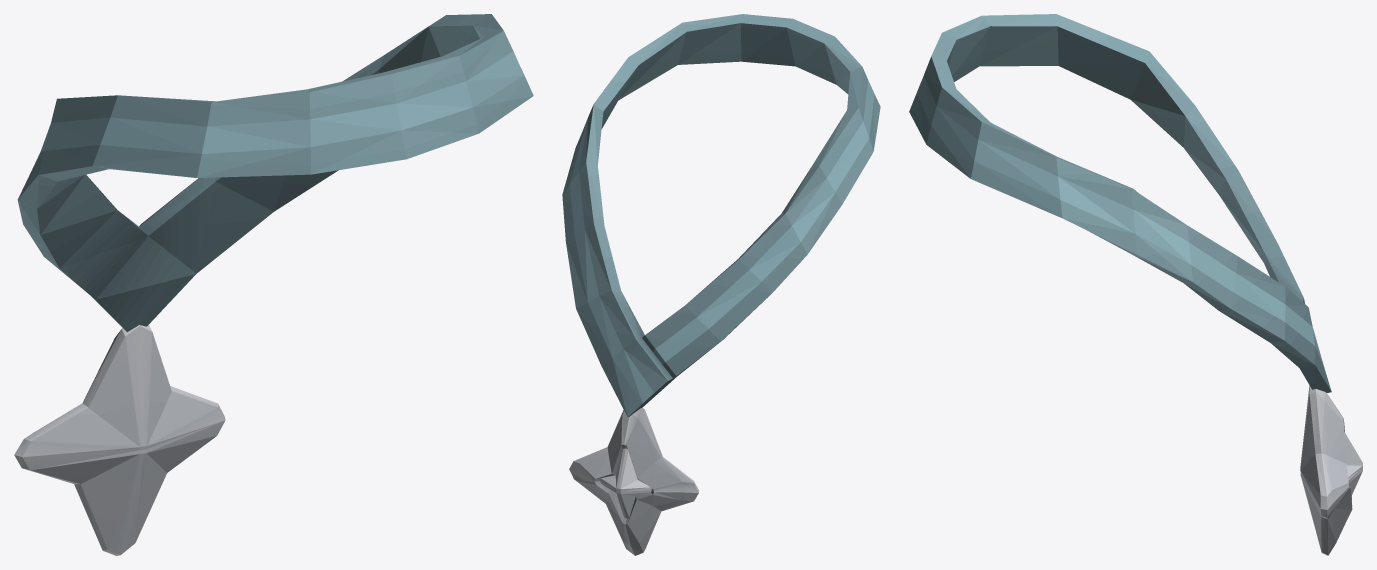
Rendered from CharSkyKid_Neck_MedalSilver.glb.
3 views of the same model, side by side, from view 1: azimuth 30°, elevation 25°; view 2: azimuth 150°, elevation 25°; view 3: azimuth 270°, elevation 25° (orthographic). The views are drawn at different scales.
Visible parts, largest first — view 1: CharSkyKid_Neck_MedalSilver; view 2: CharSkyKid_Neck_MedalSilver; view 3: CharSkyKid_Neck_MedalSilver.
Part boxes in pixels (x1,y1,x2,y2): CharSkyKid_Neck_MedalSilver: (14,14,533,555); CharSkyKid_Neck_MedalSilver: (562,14,880,555); CharSkyKid_Neck_MedalSilver: (909,14,1362,555).
Bounding box in the file's own units: 2.09 × 3.1 × 2.53.
Materials: 1 (1 with a texture image).
